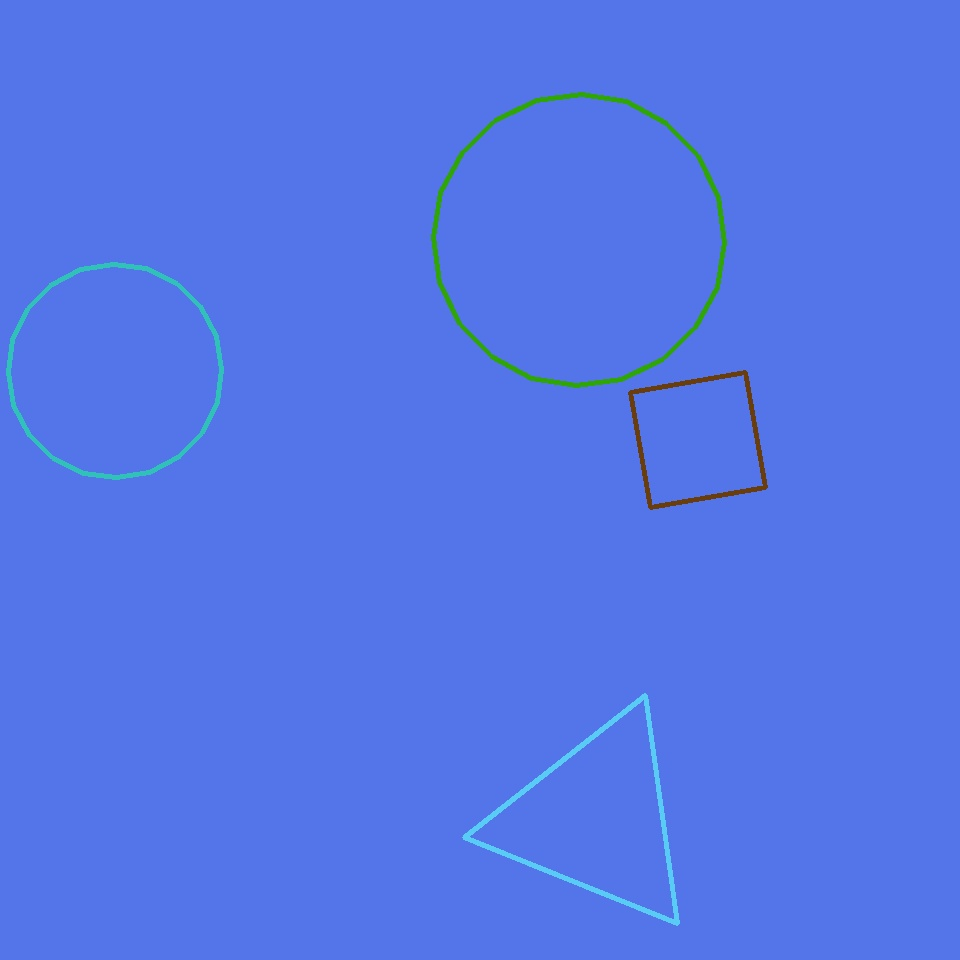circle: (490, 705, 702, 933)
square: (630, 372, 766, 507)
triangle: (434, 95, 724, 386), (9, 264, 222, 478)
